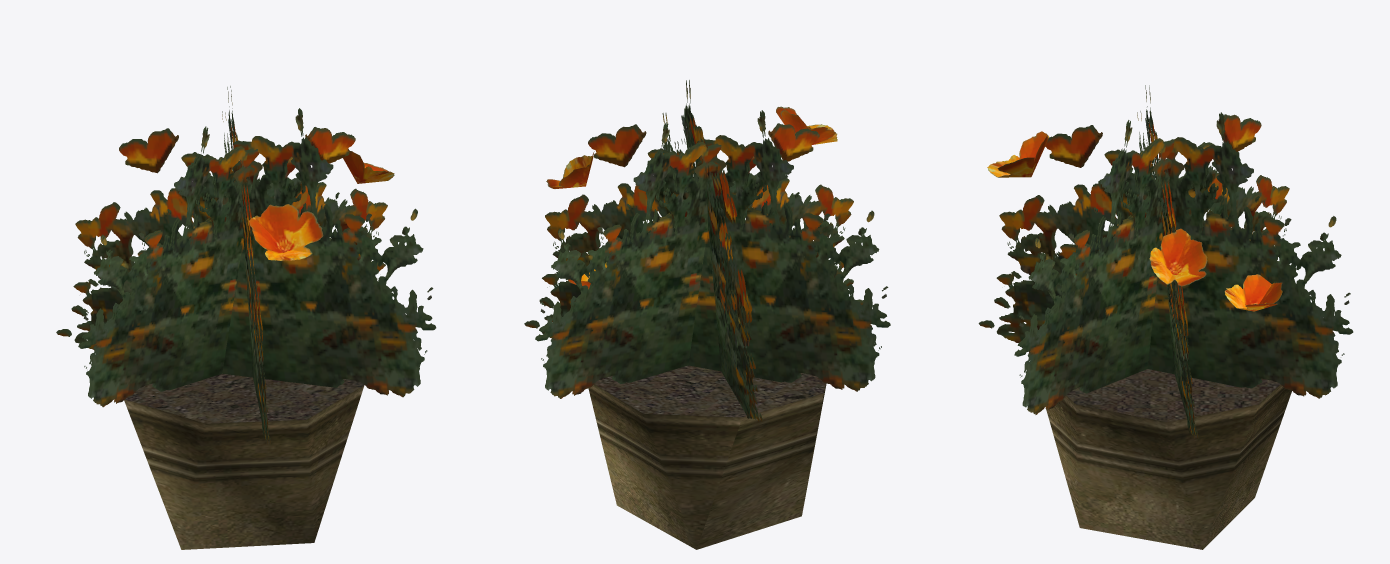
The model's file is frn_all_potted_plants_sml_s01_l1.fbx.
3 renders of one model, left to right at view 1: azimuth 30°, elevation 25°; view 2: azimuth 150°, elevation 25°; view 3: azimuth 270°, elevation 25°, orthographic.
Parts seen in each view (by area): view 1: mesh_node; view 2: mesh_node; view 3: mesh_node.
Boxes of the visible parts, x1=… form: mesh_node: x1=56, y1=86, x2=436, y2=549; mesh_node: x1=524, y1=80, x2=890, y2=549; mesh_node: x1=978, y1=85, x2=1353, y2=549.
Bounding box in the file's own units: 1.15 × 1.15 × 1.06.
